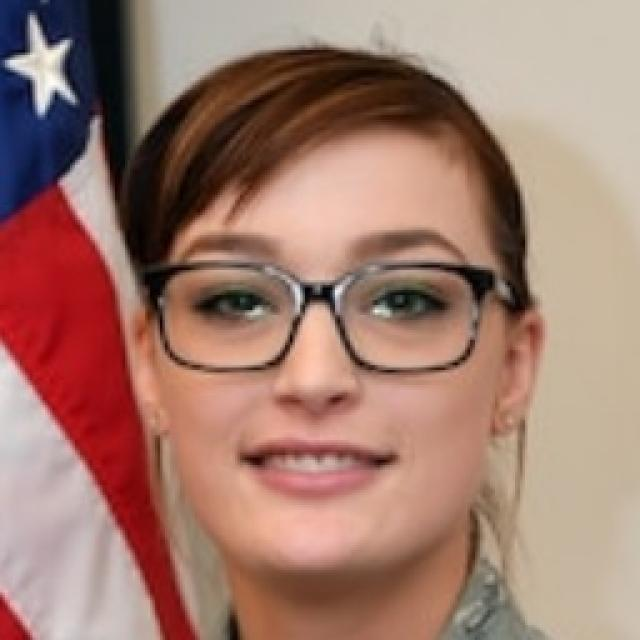glasses: (136, 249, 521, 383)
